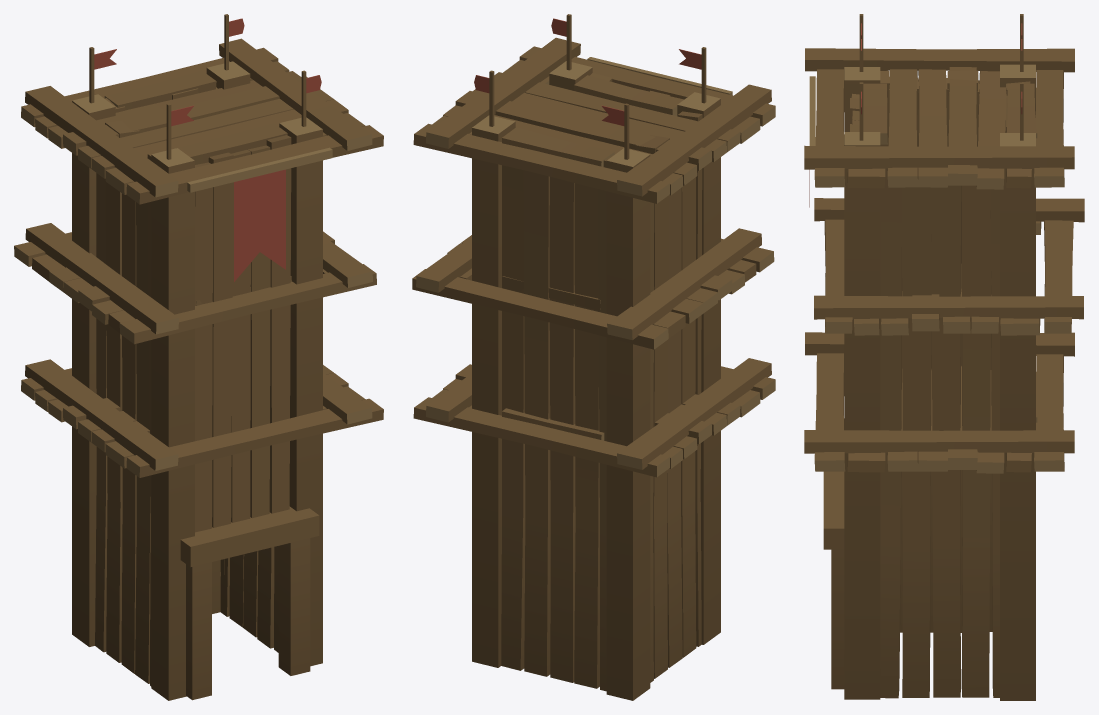
The model's file is tower-0-2.glb.
3 views of the same model, side by side, from view 1: azimuth 30°, elevation 25°; view 2: azimuth 150°, elevation 25°; view 3: azimuth 270°, elevation 25° (orthographic). The views are drawn at different scales.
Visible parts, largest first — view 1: tower:0-2; view 2: tower:0-2; view 3: tower:0-2.
Part boxes in pixels (left/top/right/bottom): tower:0-2: left=14, top=14, right=383, bottom=700; tower:0-2: left=412, top=14, right=775, bottom=700; tower:0-2: left=804, top=14, right=1084, bottom=700.
Size of the model in its own units: 1.65 by 3.8 by 1.58.
